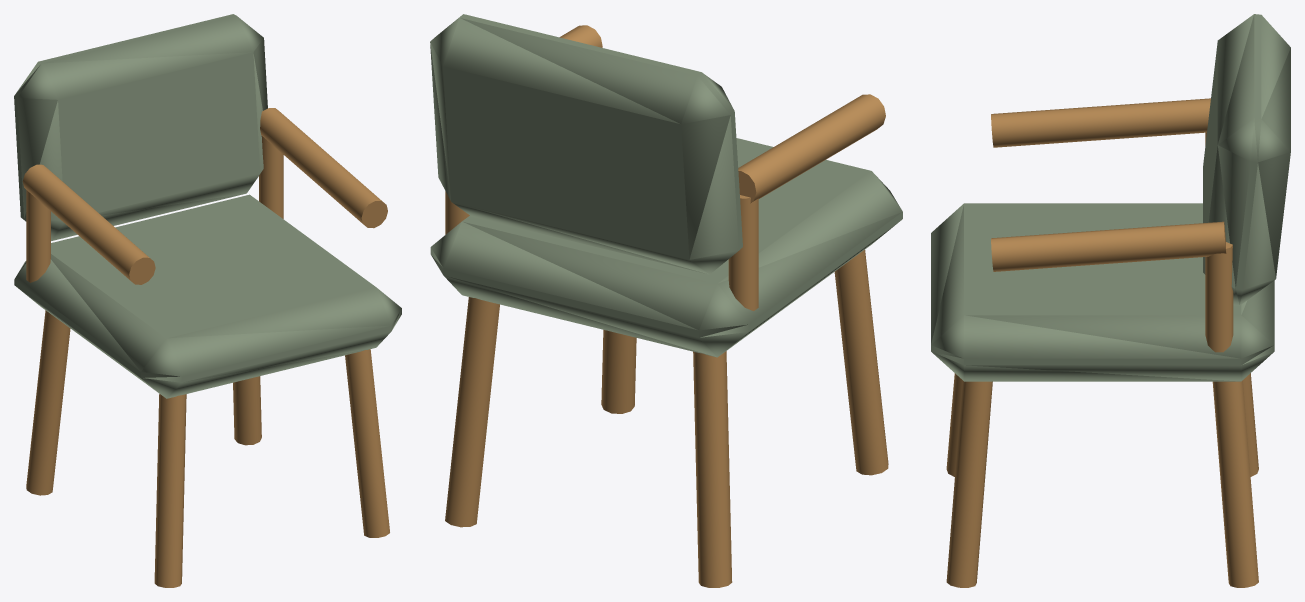
File: chair.fbx
The picture shows the model from 3 angles, left to right: view 1: azimuth 30°, elevation 25°; view 2: azimuth 150°, elevation 25°; view 3: azimuth 270°, elevation 25°; orthographic projection. The views are drawn at different scales.
Visible parts, largest first — view 1: chair; view 2: chair; view 3: chair.
Part boxes in pixels (x1,y1,x2,y2): chair: (14, 14, 401, 587); chair: (430, 14, 902, 587); chair: (931, 14, 1290, 587).
Bounding box in the file's own units: 55 × 85 × 60.
